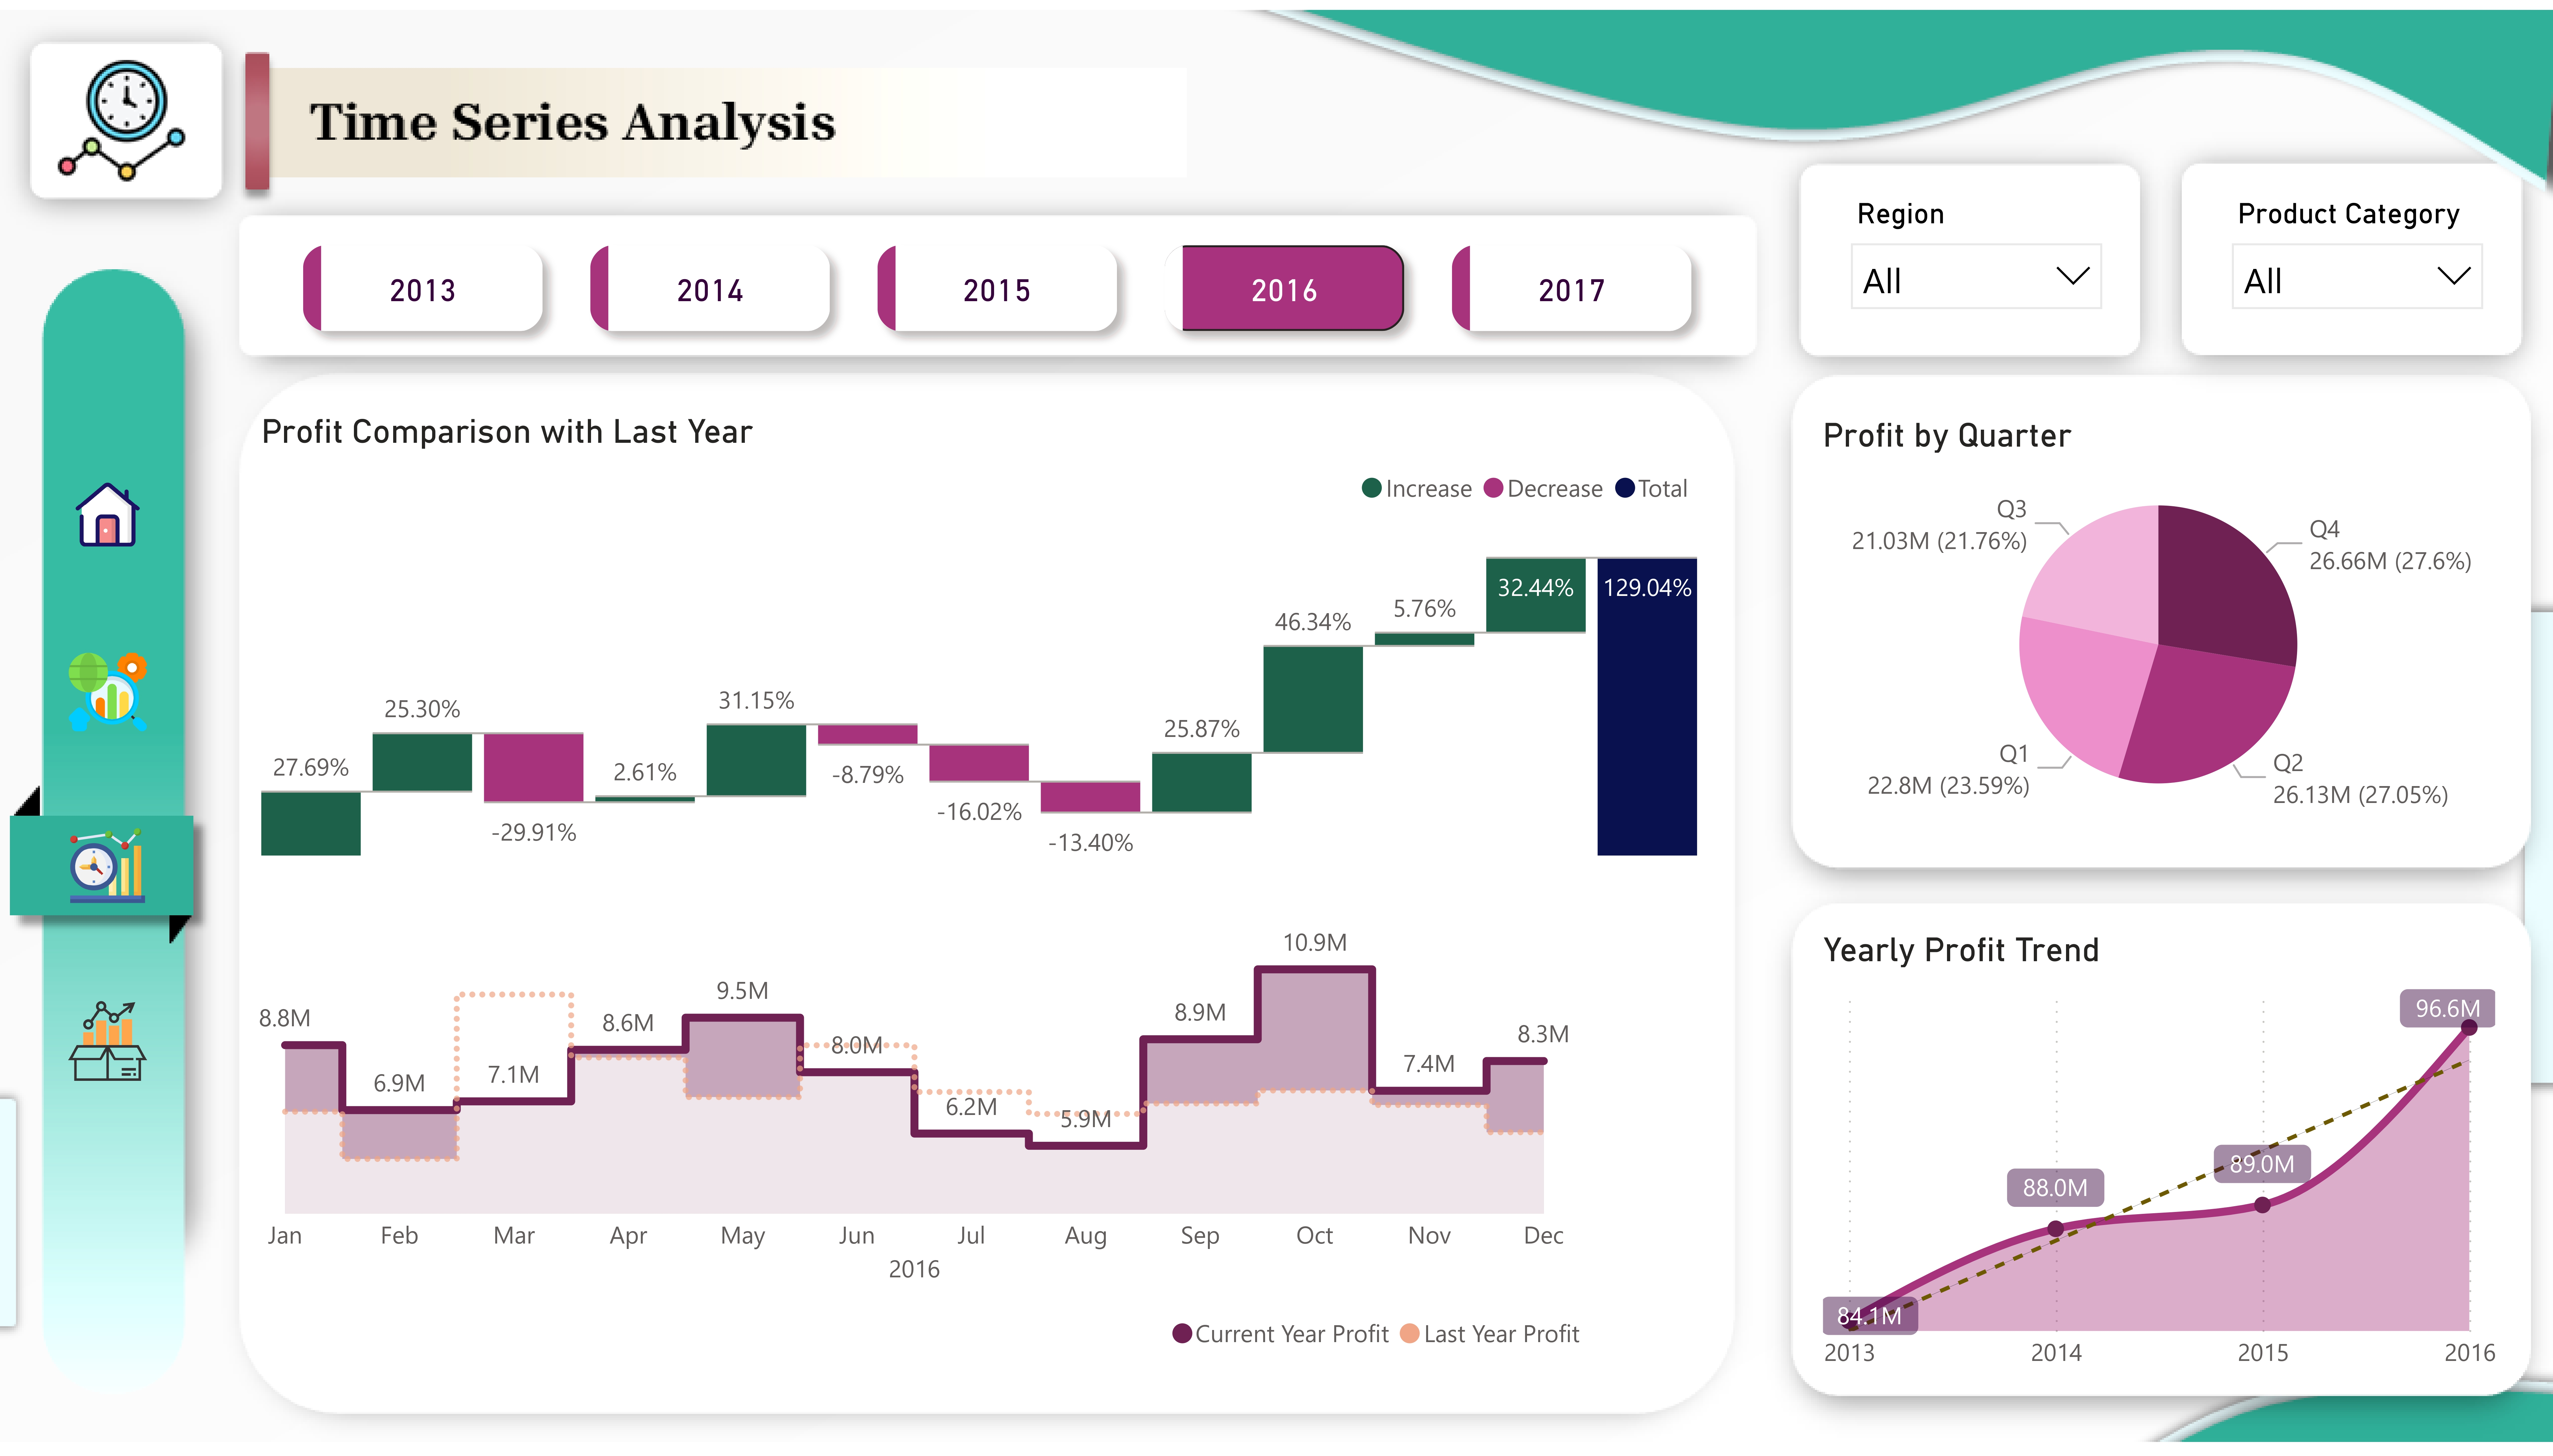

The page's visual inventory and layout, read from the dashboard file:
{"tool":"powerbi","page":{"name":"Time Series Analysis","canvas":[1280,720],"ordinal":2},"visuals":[{"type":"waterfallChart","title":"Profit Comparison with Last Year","fields":{"Category":["Date.Year","Date.Month"],"Y":["Formulas.Comparison with LY"]},"box":[126.5,200.5,730.3,229],"z":0},{"type":"areaChart","fields":{"Category":["Date.Year","Date.Month_Abb"],"Y":["Formulas.Profit","Formulas.LY_Profit"]},"box":[115.1,447.7,687,233.5],"z":1000},{"type":"pieChart","fields":{"Category":["Date.Quarter"],"Y":["Formulas.Profit"]},"box":[908.8,202.5,346.2,211.2],"z":2000},{"type":"lineChart","title":"Yearly Profit Trend","fields":{"Category":["Date.Year"],"Y":["Formulas.Profit"]},"box":[908.6,460.8,347,230.4],"z":3000},{"type":"slicer","fields":{"Values":["Product Category.Product Category"]},"box":[1108.8,88.8,146.2,73.8],"z":4000},{"type":"slicer","fields":{"Values":["Region.Region"]},"box":[917.5,88.8,146.2,73.8],"z":5000},{"type":"advancedSlicerVisual","fields":{"Values":["Date.Year"]},"box":[115.1,101.4,770.1,77.5],"z":6000},{"type":"image","box":[32.4,231.8,43.2,41.8],"z":7000},{"type":"image","box":[25.2,313.9,57.6,56.2],"z":8000},{"type":"image","box":[28.8,398.9,50.4,59],"z":9000},{"type":"image","box":[28.8,491,50.4,51.8],"z":10000}]}

Visuals, with their boxes on the page's 1280x720 design canvas (x1, y1, x2, y2). These are canvas units, not pixel positions in the 2553x1456 screenshot, which may show the page scaled, cropped or inside an application window:
"Profit Comparison with Last Year" waterfallChart: 126,200,857,430
areaChart - Date.Year x Date.Month_Abb: 115,448,802,681
pieChart - Date.Quarter x Formulas.Profit: 909,202,1255,414
"Yearly Profit Trend" lineChart: 909,461,1256,691
slicer - Product Category.Product Category: 1109,89,1255,163
slicer - Region.Region: 918,89,1064,163
advancedSlicerVisual - Date.Year: 115,101,885,179
image: 32,232,76,274
image: 25,314,83,370
image: 29,399,79,458
image: 29,491,79,543
